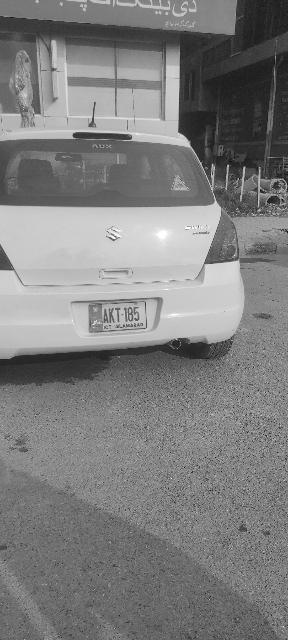Number: (105, 307, 145, 323)
